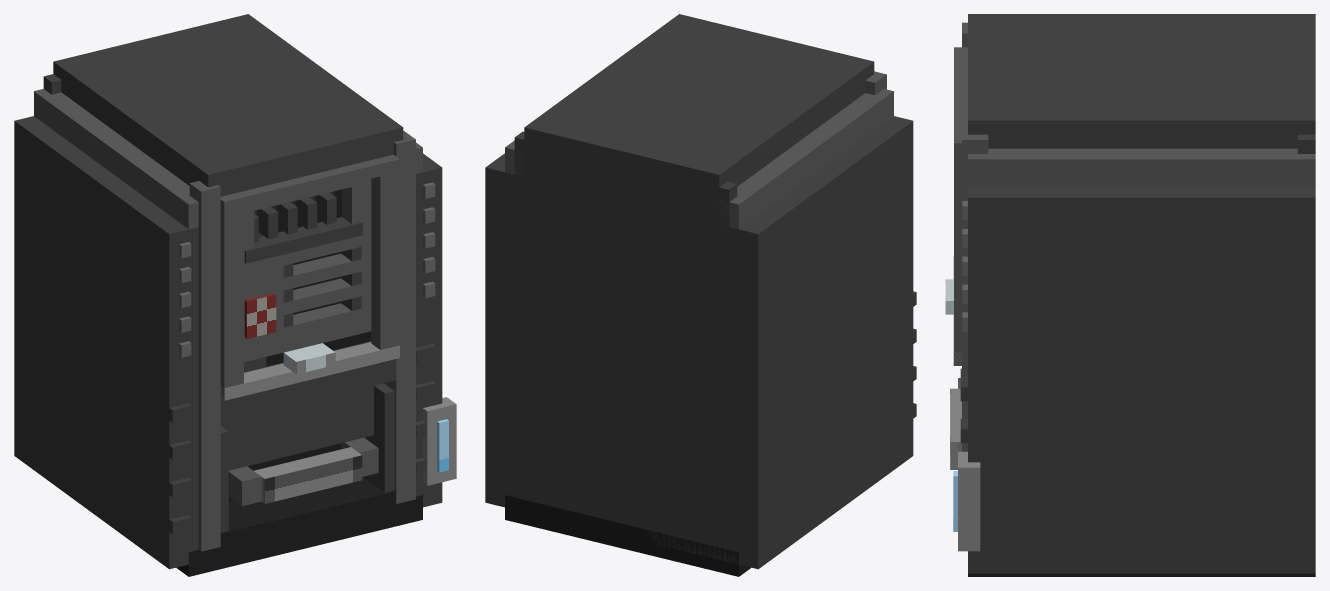
File: CMU3DCrematoriumCloud.glb
The picture shows the model from 3 angles, left to right: view 1: azimuth 30°, elevation 25°; view 2: azimuth 150°, elevation 25°; view 3: azimuth 270°, elevation 25°; orthographic projection. The views are drawn at different scales.
Parts seen in each view (by area): view 1: heavy left side casing, top formed cover, left full height frame, lower cover panel, heavy right side casing, upper left shoulder, right full height frame, base structural skid, upper door right bead, lower bay base, upper door left bead, mid-case separator (+26 smaller); view 2: rear steel shell, heavy left side casing, top formed cover, heavy right side casing, upper left shoulder, base structural skid; view 3: heavy right side casing, top formed cover, upper right shoulder, right vertical indicator bezel, upper door right bead, right full height frame, base structural skid, upper door top bead, lower hatch original horizontal grip.
Boxes of the visible parts, x1,y1,x2,y2 form: heavy left side casing: (14,116,198,569); top formed cover: (53,14,403,196); left full height frame: (189,181,220,551); lower cover panel: (220,385,373,470); heavy right side casing: (266,153,442,507); upper left shoulder: (34,89,198,229); right full height frame: (384,131,415,503); base structural skid: (176,495,422,576); upper door right bead: (371,154,399,349); lower bay base: (220,477,395,546); upper door left bead: (220,192,243,399); mid-case separator: (220,341,396,422); rear steel shell: (514,131,737,561); heavy left side casing: (729,116,913,569); top formed cover: (524,14,874,199); heavy right side casing: (485,153,514,507); upper left shoulder: (719,89,893,229); base structural skid: (505,495,750,576); heavy right side casing: (968,187,1315,573); top formed cover: (968,14,1315,148); upper right shoulder: (968,148,1315,186); right vertical indicator bezel: (958,451,980,551); upper door right bead: (954,132,961,365); right full height frame: (962,129,988,451); base structural skid: (968,573,1315,576); upper door top bead: (954,58,967,132); lower hatch original horizontal grip: (951,388,961,469).
Size of the model in its own units: 0.9062 by 1.22 by 0.9166.
13 materials, 4 textured.
